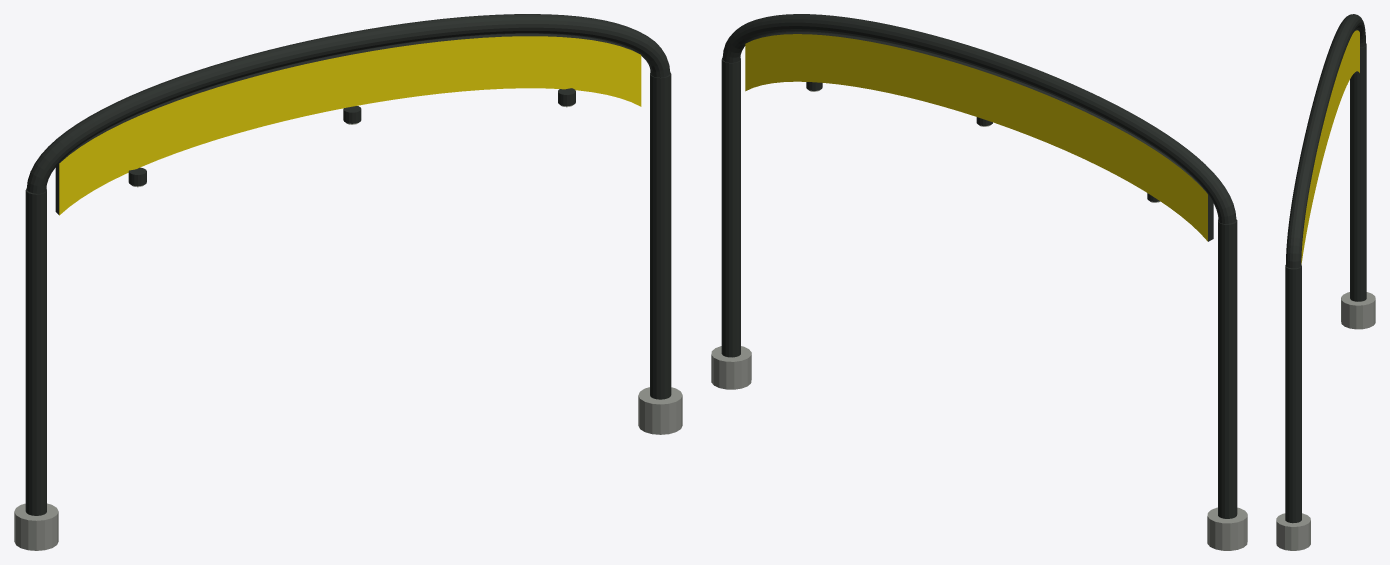
Rendered from center-gai-gate.glb.
3 renders of one model, left to right at view 1: azimuth 30°, elevation 25°; view 2: azimuth 150°, elevation 25°; view 3: azimuth 270°, elevation 25°, orthographic. The views are drawn at different scales.
Visible parts, largest first — view 1: gate_frame, gate_panel, gate_base; view 2: gate_frame, gate_panel, gate_base; view 3: gate_frame, gate_base, gate_panel.
Part boxes in pixels (bbox=[...]): gate_frame: bbox=[25, 14, 671, 515]; gate_panel: bbox=[59, 36, 641, 215]; gate_base: bbox=[14, 387, 682, 550]; gate_frame: bbox=[721, 14, 1237, 518]; gate_panel: bbox=[745, 34, 1207, 241]; gate_base: bbox=[711, 346, 1247, 550]; gate_frame: bbox=[1285, 14, 1366, 523]; gate_base: bbox=[1276, 292, 1375, 550]; gate_panel: bbox=[1301, 30, 1359, 264].
Bounding box in the file's own units: 8.74 × 6.07 × 1.54.
